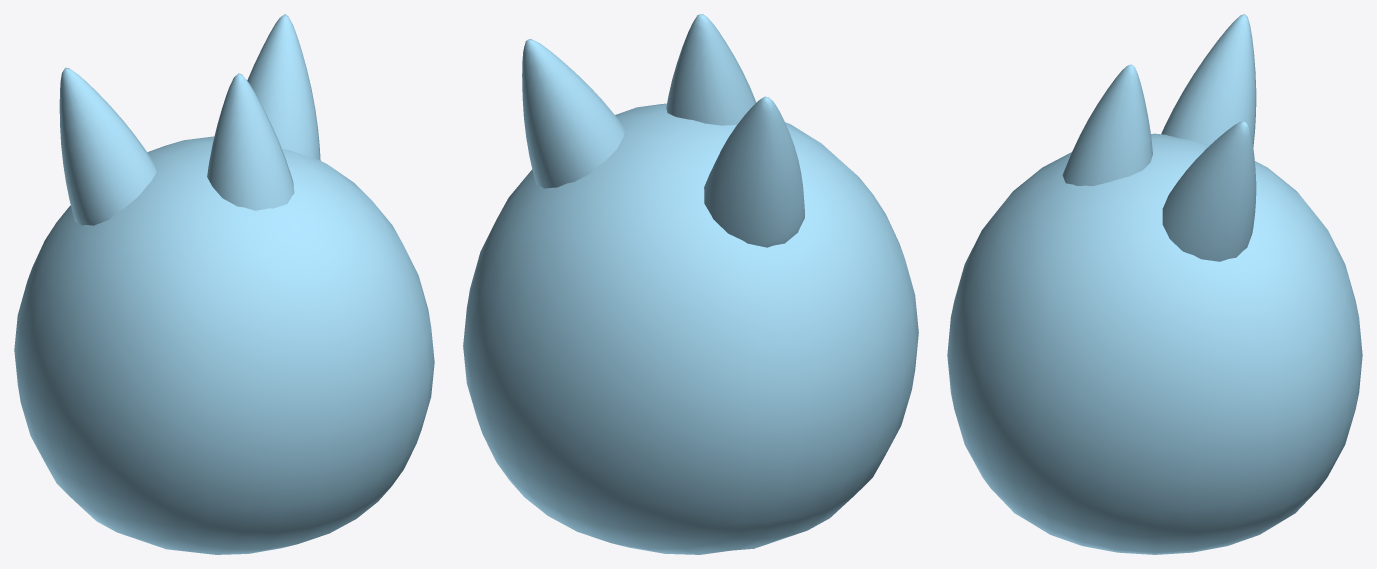
File: SpikeSlime.fbx
3 views of the same model, side by side, from view 1: azimuth 30°, elevation 25°; view 2: azimuth 150°, elevation 25°; view 3: azimuth 270°, elevation 25° (orthographic). The views are drawn at different scales.
Parts seen in each view (by area): view 1: Cube.001; view 2: Cube.001; view 3: Cube.001.
Boxes of the visible parts, box(x1,y1,x2,y2) form: Cube.001: box(14, 14, 434, 554); Cube.001: box(463, 14, 918, 554); Cube.001: box(947, 14, 1362, 554).
Bounding box in the file's own units: 186 × 224 × 186.
2 materials, 2 textured.
